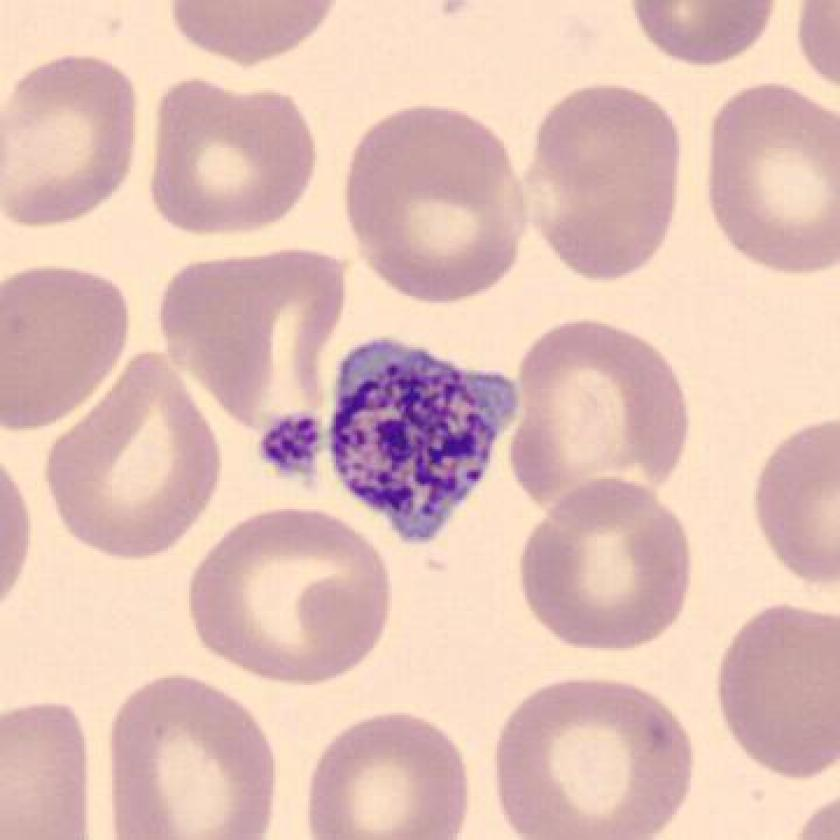platelets: (325, 335, 526, 550), (253, 404, 337, 494)
